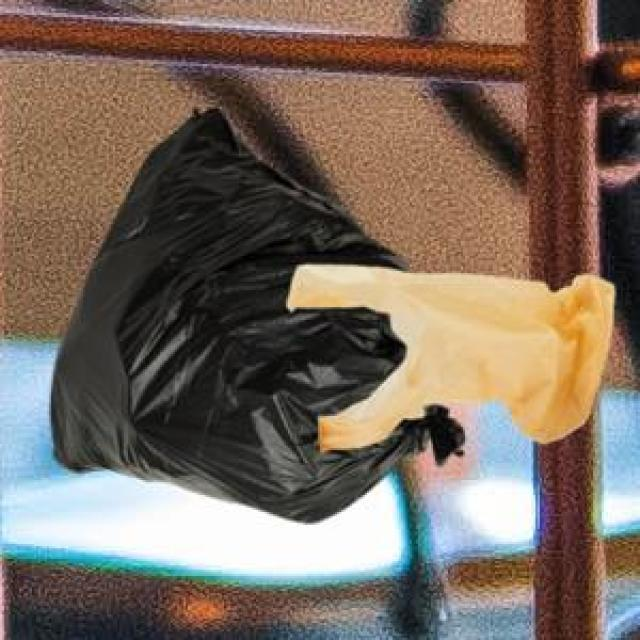miscellaneous trash: (49, 105, 461, 518)
